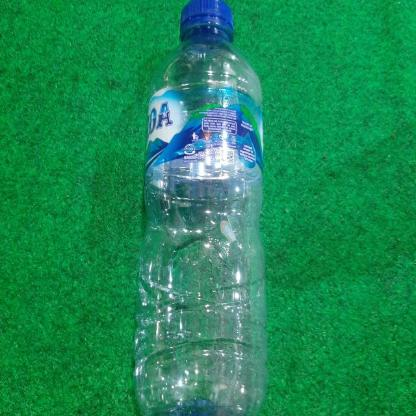Plastic Bottle: (132, 0, 263, 416)
